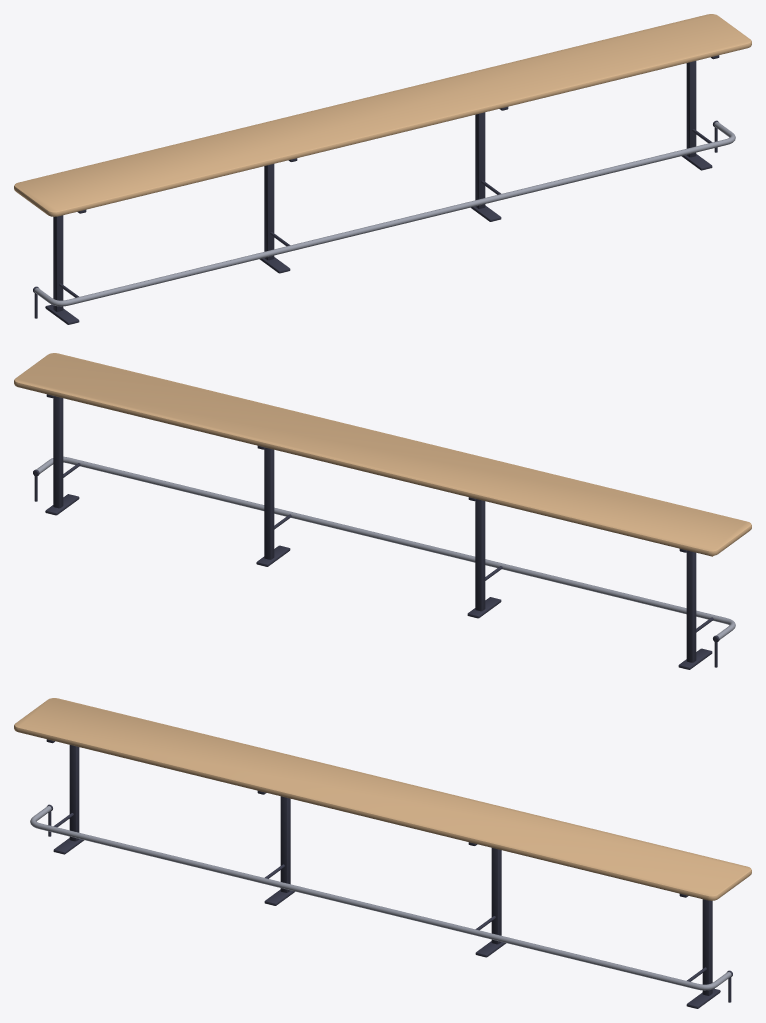
Rendered from bar_counter.glb.
3 views of the same model, one above another, from view 1: azimuth 30°, elevation 25°; view 2: azimuth 150°, elevation 25°; view 3: azimuth 330°, elevation 25° (orthographic).
Visible parts, largest first — view 1: oak, charcoal, steel; view 2: oak, charcoal, steel; view 3: oak, charcoal, steel.
Part boxes in pixels (bbox=[...]): oak: bbox=[14, 14, 751, 216]; charcoal: bbox=[33, 55, 719, 324]; steel: bbox=[34, 122, 735, 306]; oak: bbox=[14, 353, 751, 555]; charcoal: bbox=[33, 394, 719, 669]; steel: bbox=[36, 456, 735, 639]; oak: bbox=[14, 698, 751, 900]; charcoal: bbox=[46, 739, 732, 1008]; steel: bbox=[30, 806, 731, 990].
Size of the model in its own units: 6 by 1.05 by 0.6.
